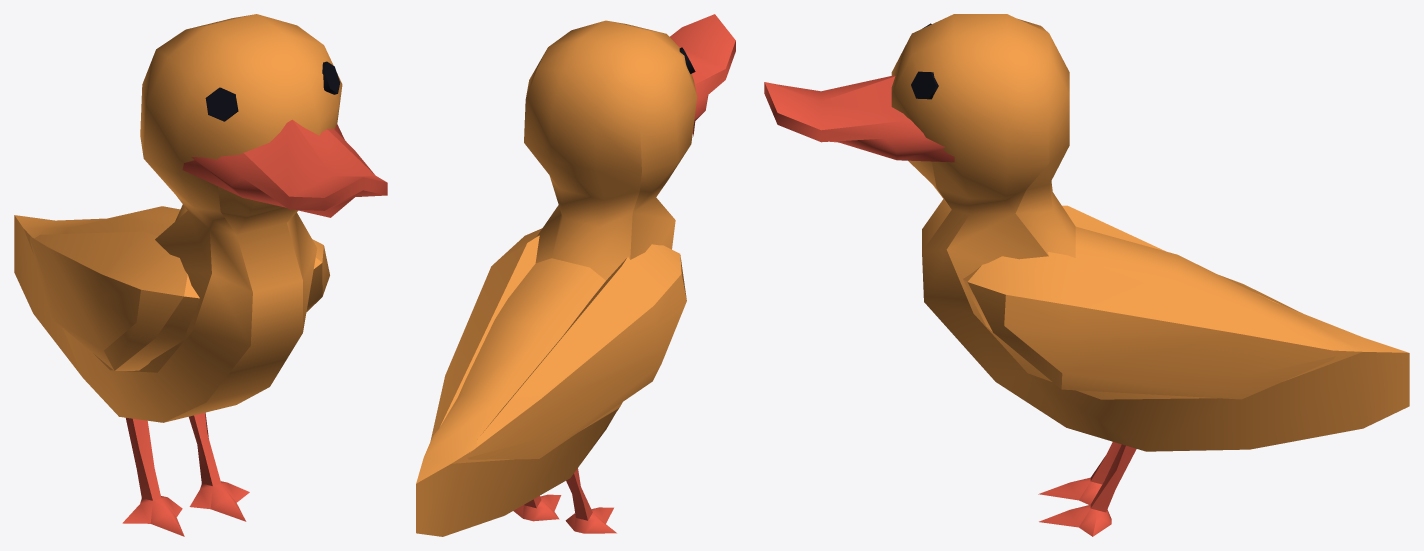
The model's file is Little_Goose.fbx.
3 renders of one model, left to right at view 1: azimuth 30°, elevation 25°; view 2: azimuth 150°, elevation 25°; view 3: azimuth 270°, elevation 25°, orthographic. The views are drawn at different scales.
Parts seen in each view (by area): view 1: Little_Goose; view 2: Little_Goose; view 3: Little_Goose.
Part boxes in pixels (box(x1,y1,x2,y2)): Little_Goose: box(14, 14, 387, 536); Little_Goose: box(416, 14, 735, 536); Little_Goose: box(764, 14, 1409, 536).
Bounding box in the file's own units: 4.3 × 10.88 × 13.18.
